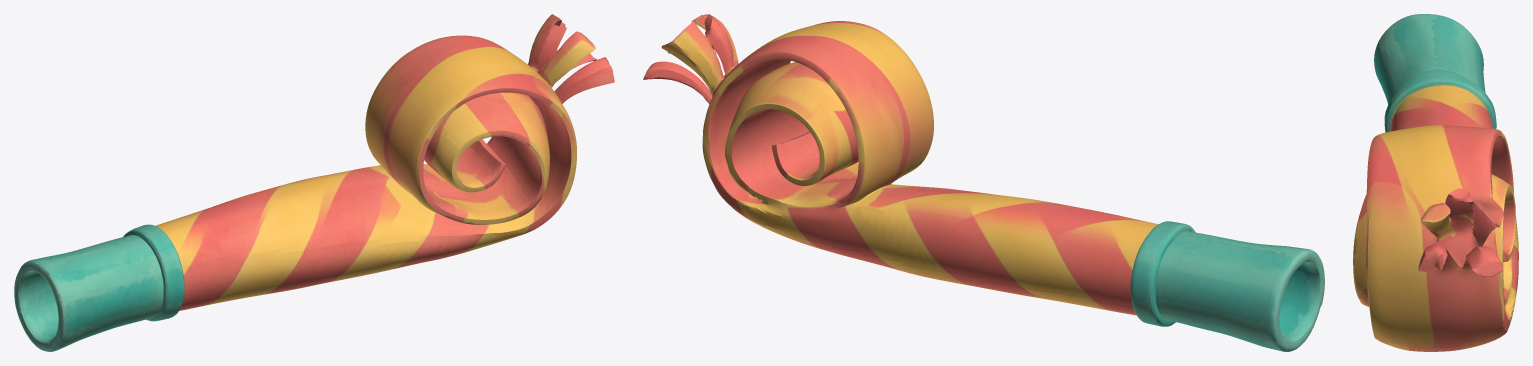
The model's file is Meshy_AI_Watercolor_Party_Horn_1122025951_texture.glb.
The picture shows the model from 3 angles, left to right: view 1: azimuth 30°, elevation 25°; view 2: azimuth 150°, elevation 25°; view 3: azimuth 270°, elevation 25°; orthographic projection. The views are drawn at different scales.
Parts seen in each view (by area): view 1: Mesh0; view 2: Mesh0; view 3: Mesh0.
Part boxes in pixels (x1,y1,x2,y2): Mesh0: [14, 14, 614, 351]; Mesh0: [643, 14, 1324, 351]; Mesh0: [1353, 14, 1518, 351].
Bounding box in the file's own units: 1.9 × 0.5948 × 0.4253.
1 material, 1 textured.
